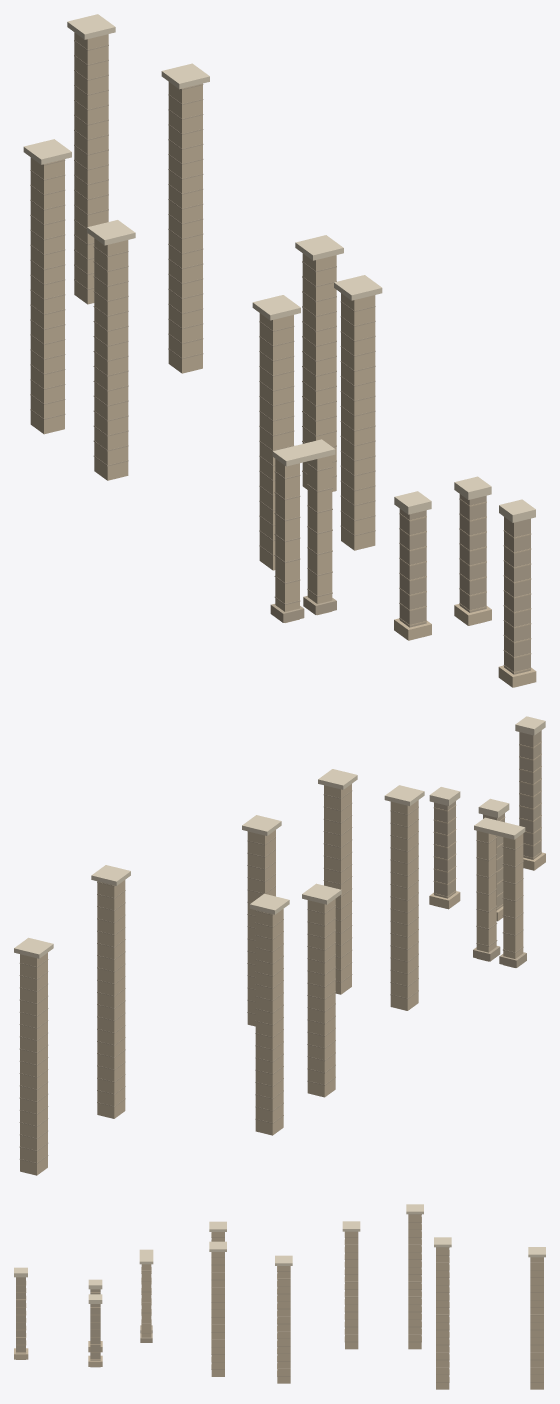
Rendered from EastMasonryViaduct.glb.
The picture shows the model from 3 angles, top to bottom: view 1: azimuth 30°, elevation 25°; view 2: azimuth 150°, elevation 25°; view 3: azimuth 270°, elevation 25°; orthographic projection. The views are drawn at different scales.
Parts seen in each view (by area): view 1: EastMasonryViaduct; view 2: EastMasonryViaduct; view 3: EastMasonryViaduct.
Part boxes in pixels (x1,y1,x2,y2): EastMasonryViaduct: (23, 14, 536, 687); EastMasonryViaduct: (14, 716, 545, 1175); EastMasonryViaduct: (14, 1204, 545, 1389).
Bounding box in the file's own units: 15.43 × 19.57 × 64.5.
